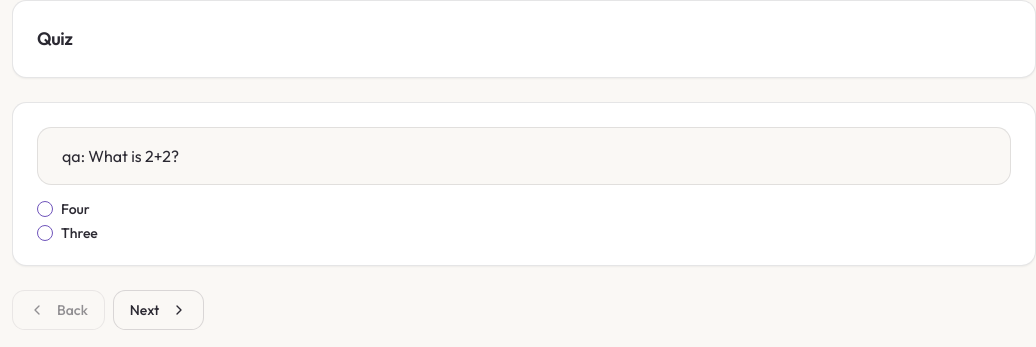
Scenario: InlineQuizPlayer definite start refusal › allowed start control: the first answer starts exactly one attempt via the RPC and no refusal is shown
Click the radio button named "Four" next to "Four" at point(45, 209), box left=37, top=201, right=53, bottom=217
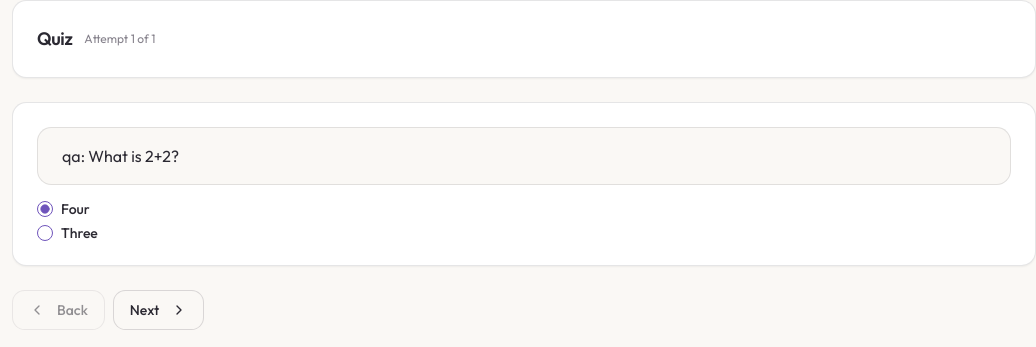
Check: the text "Attempt 1 of 1" is shown, box left=84, top=31, right=155, bottom=47
